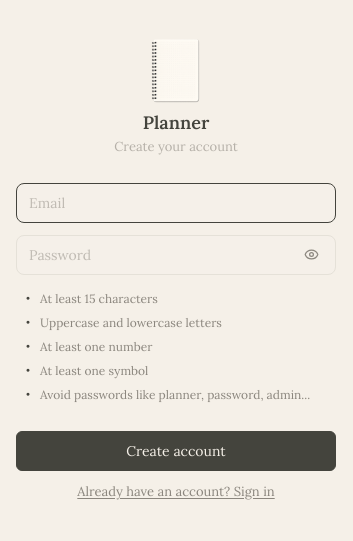
Test: RegisterPage › places VALIDATION_ERROR details on the matching fields
The width and height of the screenshot is (353, 541).
Type "new@example.com" into the field with placeholder "Email" at (176, 202), box [29,192,323,212]
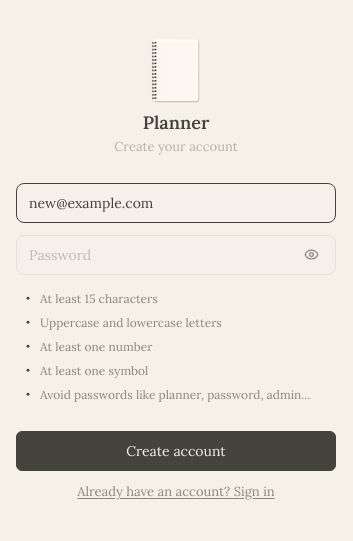
Type "Correct-horse-battery-staple-2" into the password field with placeholder "Password" at (160, 254), box [29,244,291,264]
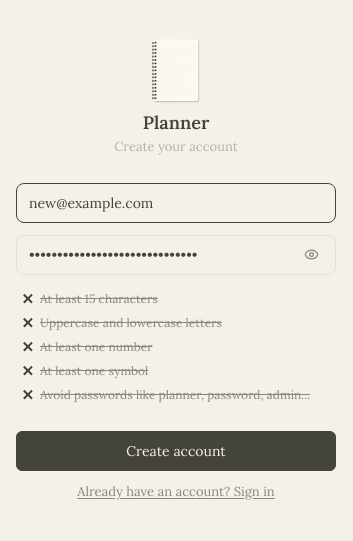
Click the button "Create account" at (176, 450), box [16,430,336,470]
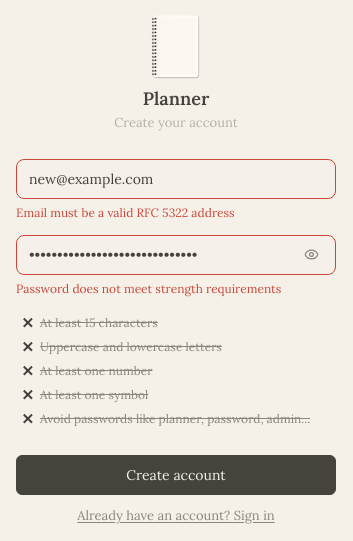
Result: the text "Email must be a valid RFC 5322 address" is shown at [16,204,235,220]
Result: the text "Password does not meet strength requirements" is shown at [16,280,281,296]
